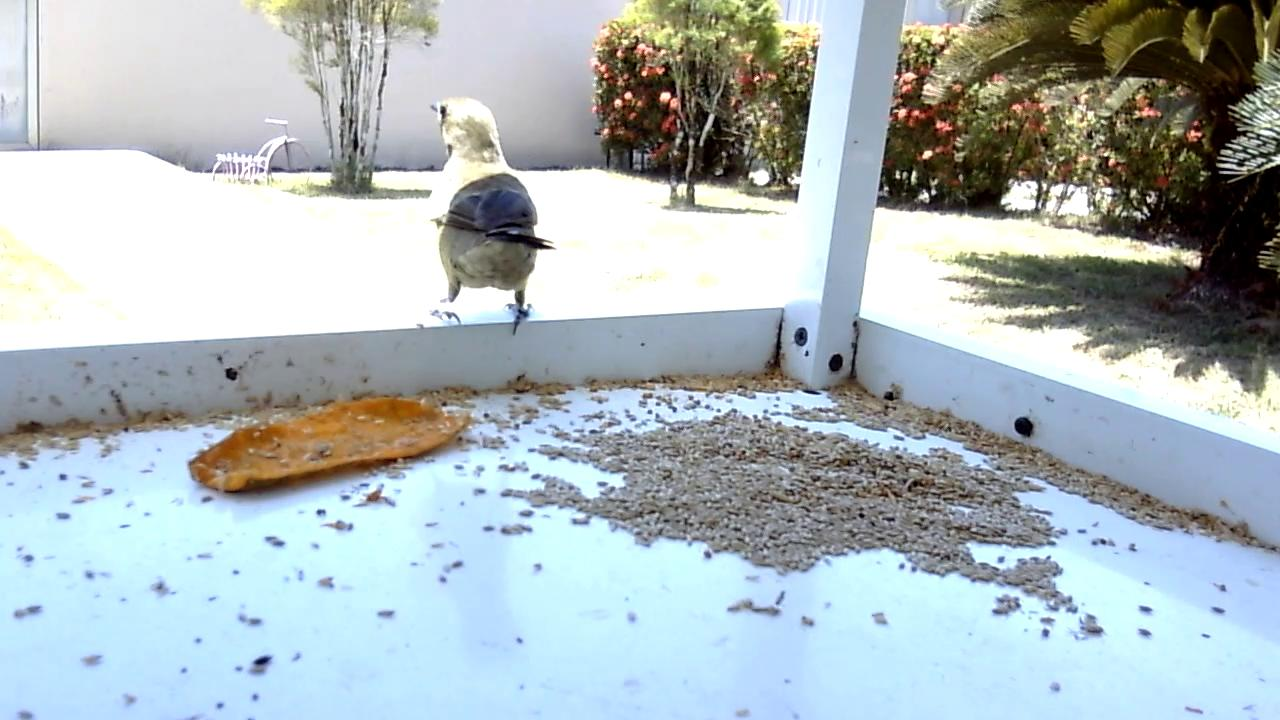sanhaco_do_coqueiro: (428, 95, 557, 337)
